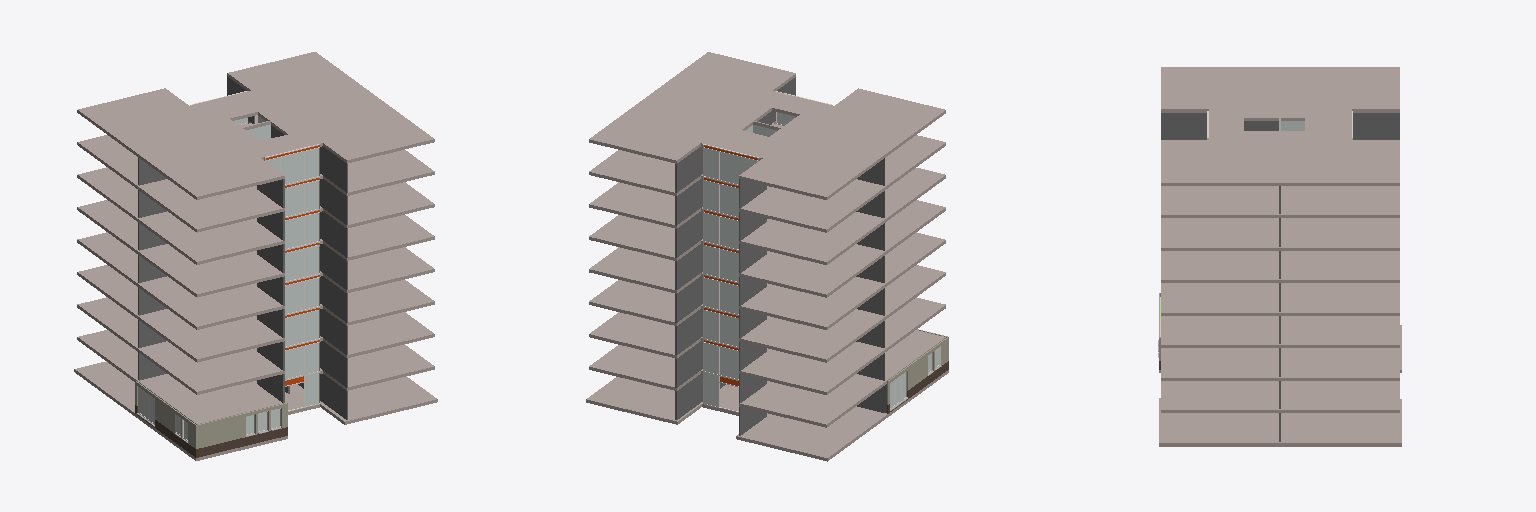
Rendered from building_v1.obj.
3 views of the same model, side by side, from view 1: azimuth 30°, elevation 25°; view 2: azimuth 150°, elevation 25°; view 3: azimuth 270°, elevation 25° (orthographic).
Parts seen in each view (by area): view 1: Floors, Walls, System Panel, Walls.003, Rectangular Mullion, System Panel.001; view 2: Floors, Walls, System Panel, Rectangular Mullion, Walls.003; view 3: Floors, Walls.
Boxes of the visible parts, x1=… form: Floors: x1=74, y1=52, x2=437, y2=460; Walls: x1=138, y1=76, x2=347, y2=419; System Panel: x1=234, y1=118, x2=318, y2=406; Walls.003: x1=135, y1=381, x2=287, y2=457; Rectangular Mullion: x1=192, y1=91, x2=319, y2=411; System Panel.001: x1=138, y1=387, x2=279, y2=439; Floors: x1=586, y1=52, x2=948, y2=461; Walls: x1=675, y1=77, x2=884, y2=435; System Panel: x1=704, y1=112, x2=795, y2=406; Rectangular Mullion: x1=703, y1=91, x2=831, y2=412; Walls.003: x1=885, y1=329, x2=948, y2=413; Floors: x1=1159, y1=67, x2=1401, y2=446; Walls: x1=1161, y1=113, x2=1399, y2=441.
Bounding box in the file's own units: 23.41 × 24.3 × 20.41.